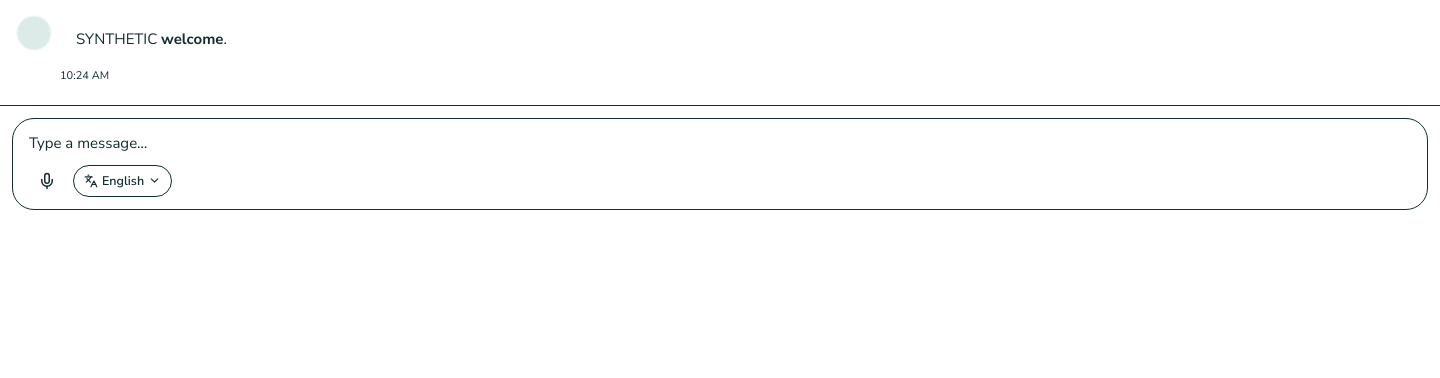
ChatPanel › a turn the backend refuses shows the backend's reason, not a dropped connection
In the text box named "Message your tutor": {"x": 720, "y": 143} top-left (29, 131), bottom-right (1411, 155), type "SYNTHETIC question"
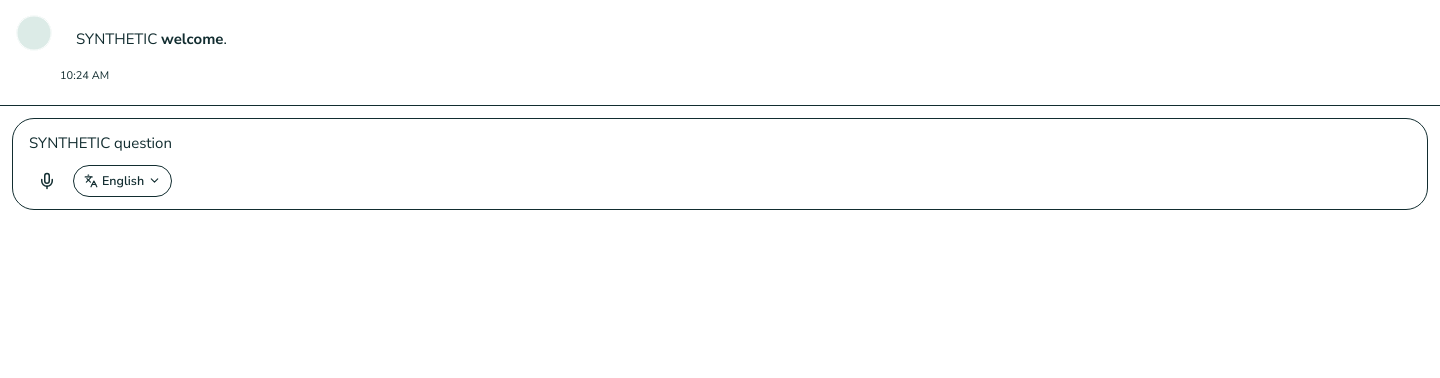
Press Enter in the text box named "Message your tutor", box top-left (29, 131), bottom-right (1411, 155)
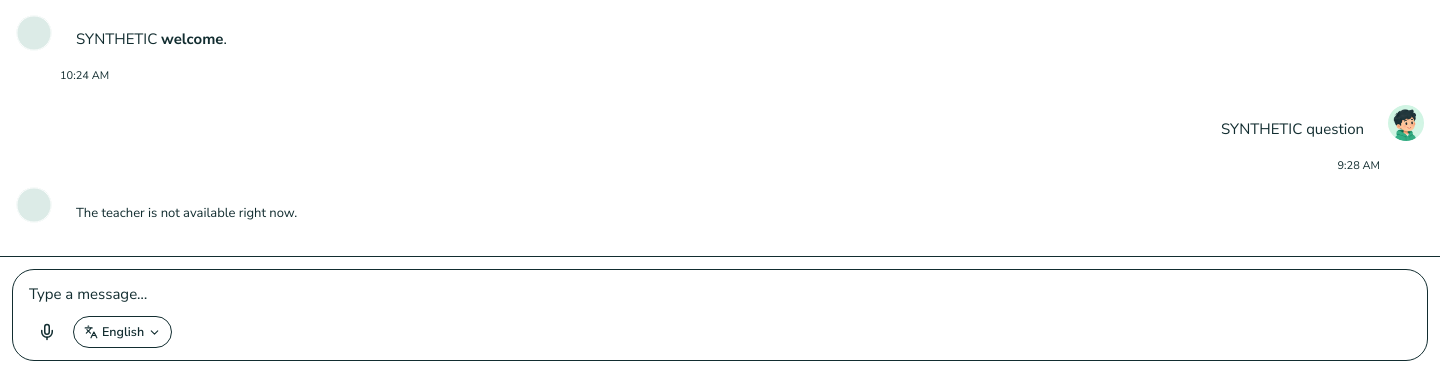
Result: the message reads "The teacher is not available right now." at top-left (76, 204), bottom-right (297, 222)
